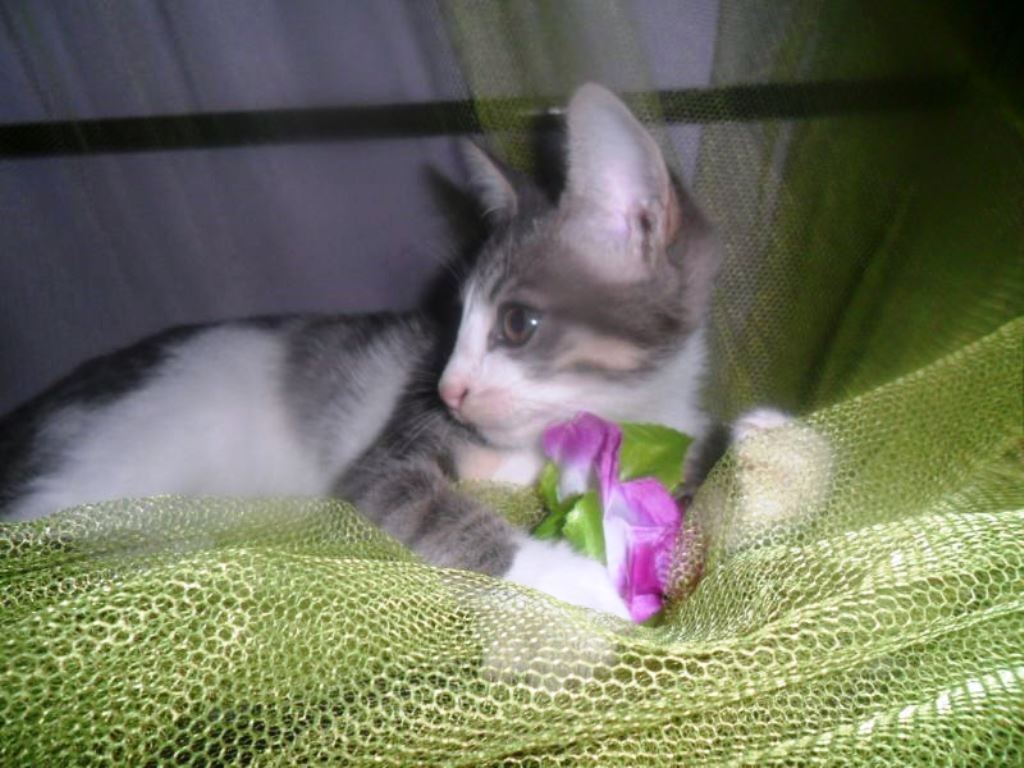cat: (0, 71, 735, 623)
